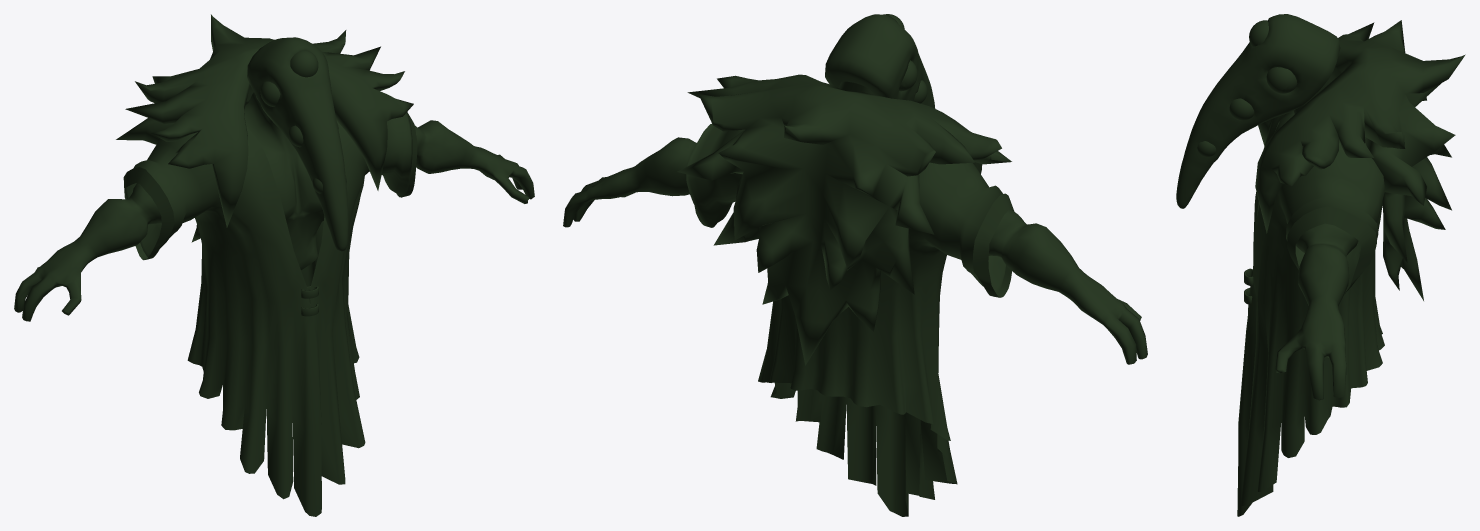
The model's file is spawner_low.fbx.
3 renders of one model, left to right at view 1: azimuth 30°, elevation 25°; view 2: azimuth 150°, elevation 25°; view 3: azimuth 270°, elevation 25°, orthographic. The views are drawn at different scales.
Visible parts, largest first — view 1: spawner_low; view 2: spawner_low; view 3: spawner_low.
Part boxes in pixels (x1,y1,x2,y2): spawner_low: (14, 14, 534, 516); spawner_low: (563, 14, 1147, 516); spawner_low: (1176, 14, 1465, 516).
Size of the model in its own units: 406 by 351 by 184.
